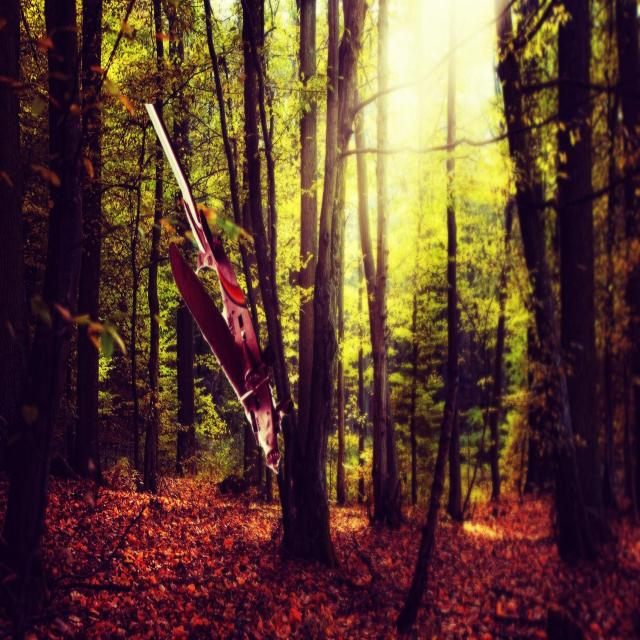airplane: (144, 100, 286, 477)
